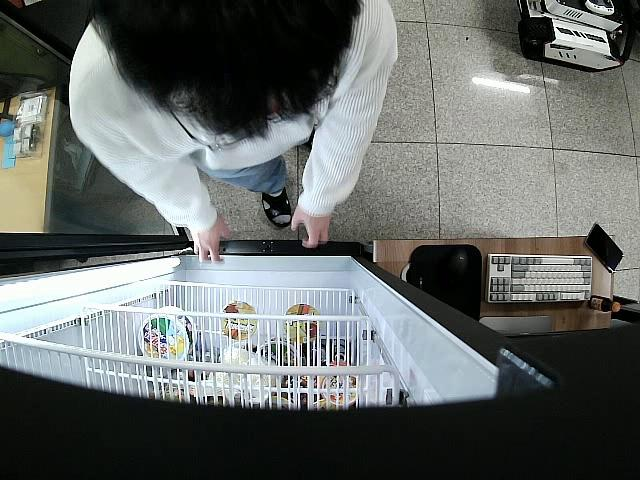00_hand: (291, 206, 331, 249), (192, 223, 231, 262)
